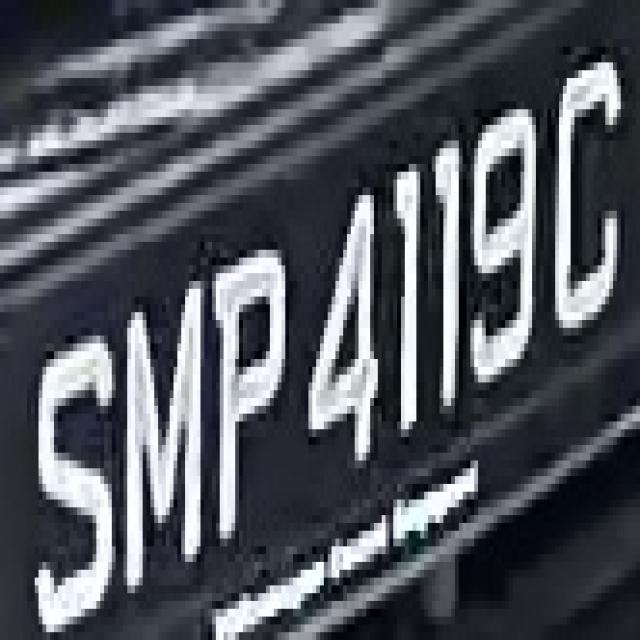1: (382, 156, 439, 468), (424, 117, 474, 437)
4: (304, 172, 382, 507)
9: (462, 86, 544, 398)
C: (544, 47, 620, 343)
M: (123, 289, 216, 601)
P: (200, 242, 312, 554)
S: (0, 4, 1, 8)
